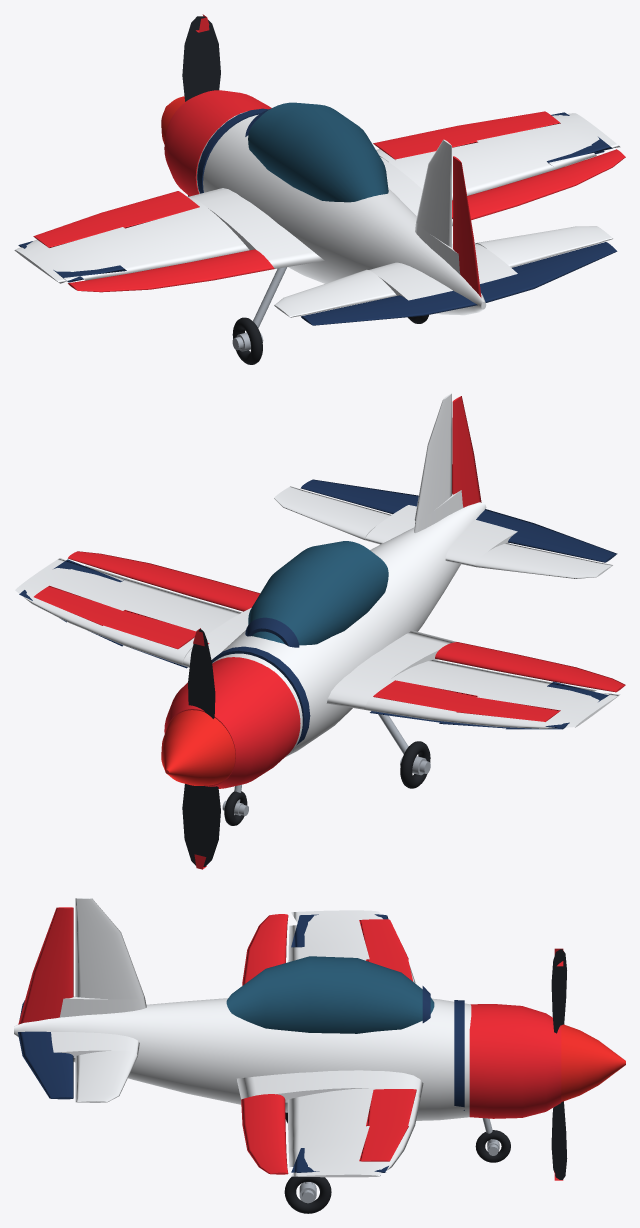
The model's file is aircraft.glb.
3 views of the same model, one above another, from view 1: azimuth 30°, elevation 25°; view 2: azimuth 150°, elevation 25°; view 3: azimuth 270°, elevation 25° (orthographic). The views are drawn at different scales.
Visible parts, largest first — view 1: MainWingFixed, Fuselage, Canopy, HorizontalStabilizer, TopRedLivery, Elevator, Cowl, LeftAileron, RightAileron, VerticalStabilizer, Propeller, Rudder (+3 smaller); view 2: MainWingFixed, Fuselage, Canopy, Cowl, HorizontalStabilizer, TopRedLivery, Spinner, Elevator, Propeller, RightAileron, LeftAileron, VerticalStabilizer (+4 smaller); view 3: Fuselage, MainWingFixed, Canopy, Cowl, VerticalStabilizer, TopRedLivery, HorizontalStabilizer, Rudder, RightAileron, Spinner, Elevator, Propeller (+3 smaller).
Part boxes in pixels (x1=…): MainWingFixed: x1=14, y1=113, x2=620, y2=283; Fuselage: x1=196, y1=111, x2=486, y2=315; Canopy: x1=248, y1=102, x2=388, y2=202; HorizontalStabilizer: x1=274, y1=226, x2=612, y2=317; TopRedLivery: x1=33, y1=111, x2=560, y2=247; Elevator: x1=301, y1=242, x2=617, y2=325; Cowl: x1=164, y1=90, x2=271, y2=196; LeftAileron: x1=68, y1=249, x2=274, y2=292; RightAileron: x1=452, y1=149, x2=625, y2=220; VerticalStabilizer: x1=415, y1=139, x2=460, y2=274; Propeller: x1=182, y1=16, x2=220, y2=196; Rudder: x1=453, y1=156, x2=481, y2=297; MainWingFixed: x1=15, y1=558, x2=620, y2=728; Fuselage: x1=212, y1=502, x2=486, y2=757; Canopy: x1=248, y1=541, x2=388, y2=645; Cowl: x1=164, y1=657, x2=300, y2=788; HorizontalStabilizer: x1=274, y1=486, x2=612, y2=578; TopRedLivery: x1=34, y1=585, x2=560, y2=721; Spinner: x1=161, y1=710, x2=235, y2=785; Elevator: x1=300, y1=479, x2=617, y2=562; Propeller: x1=182, y1=629, x2=220, y2=866; RightAileron: x1=68, y1=551, x2=260, y2=611; LeftAileron: x1=435, y1=642, x2=625, y2=692; VerticalStabilizer: x1=414, y1=393, x2=463, y2=532; Fuselage: x1=14, y1=998, x2=471, y2=1120; MainWingFixed: x1=237, y1=910, x2=423, y2=1177; Canopy: x1=226, y1=956, x2=434, y2=1033; Cowl: x1=469, y1=1004, x2=561, y2=1118; VerticalStabilizer: x1=59, y1=898, x2=146, y2=1017; TopRedLivery: x1=359, y1=919, x2=416, y2=1161; HorizontalStabilizer: x1=51, y1=1032, x2=139, y2=1102; Rudder: x1=18, y1=907, x2=73, y2=1024; RightAileron: x1=241, y1=1094, x2=288, y2=1174; Spinner: x1=561, y1=1024, x2=625, y2=1101; Elevator: x1=18, y1=1000, x2=73, y2=1099; Propeller: x1=551, y1=949, x2=567, y2=1179.
Bounding box in the file's own units: 1.84 × 0.912 × 1.8.
